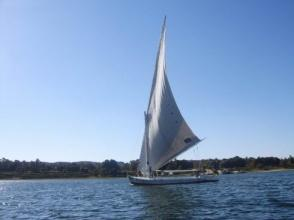fanchuan: (126, 10, 217, 187)
